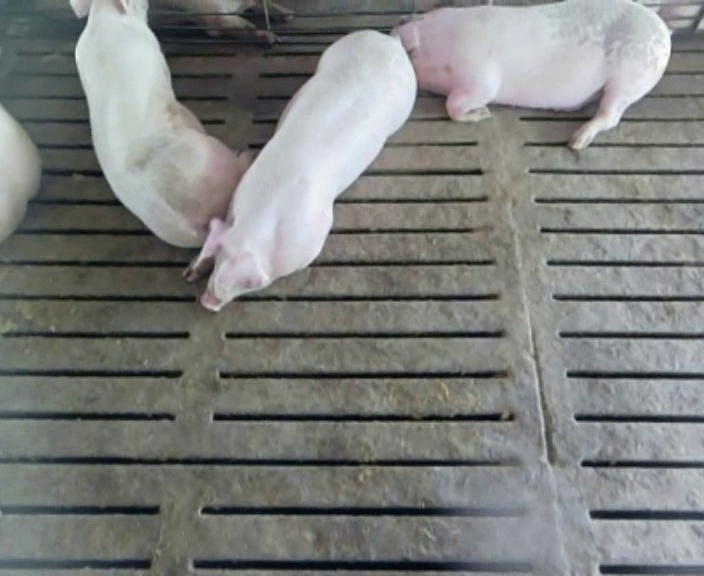pig: (182, 31, 414, 310), (72, 1, 250, 246), (393, 2, 670, 149)
